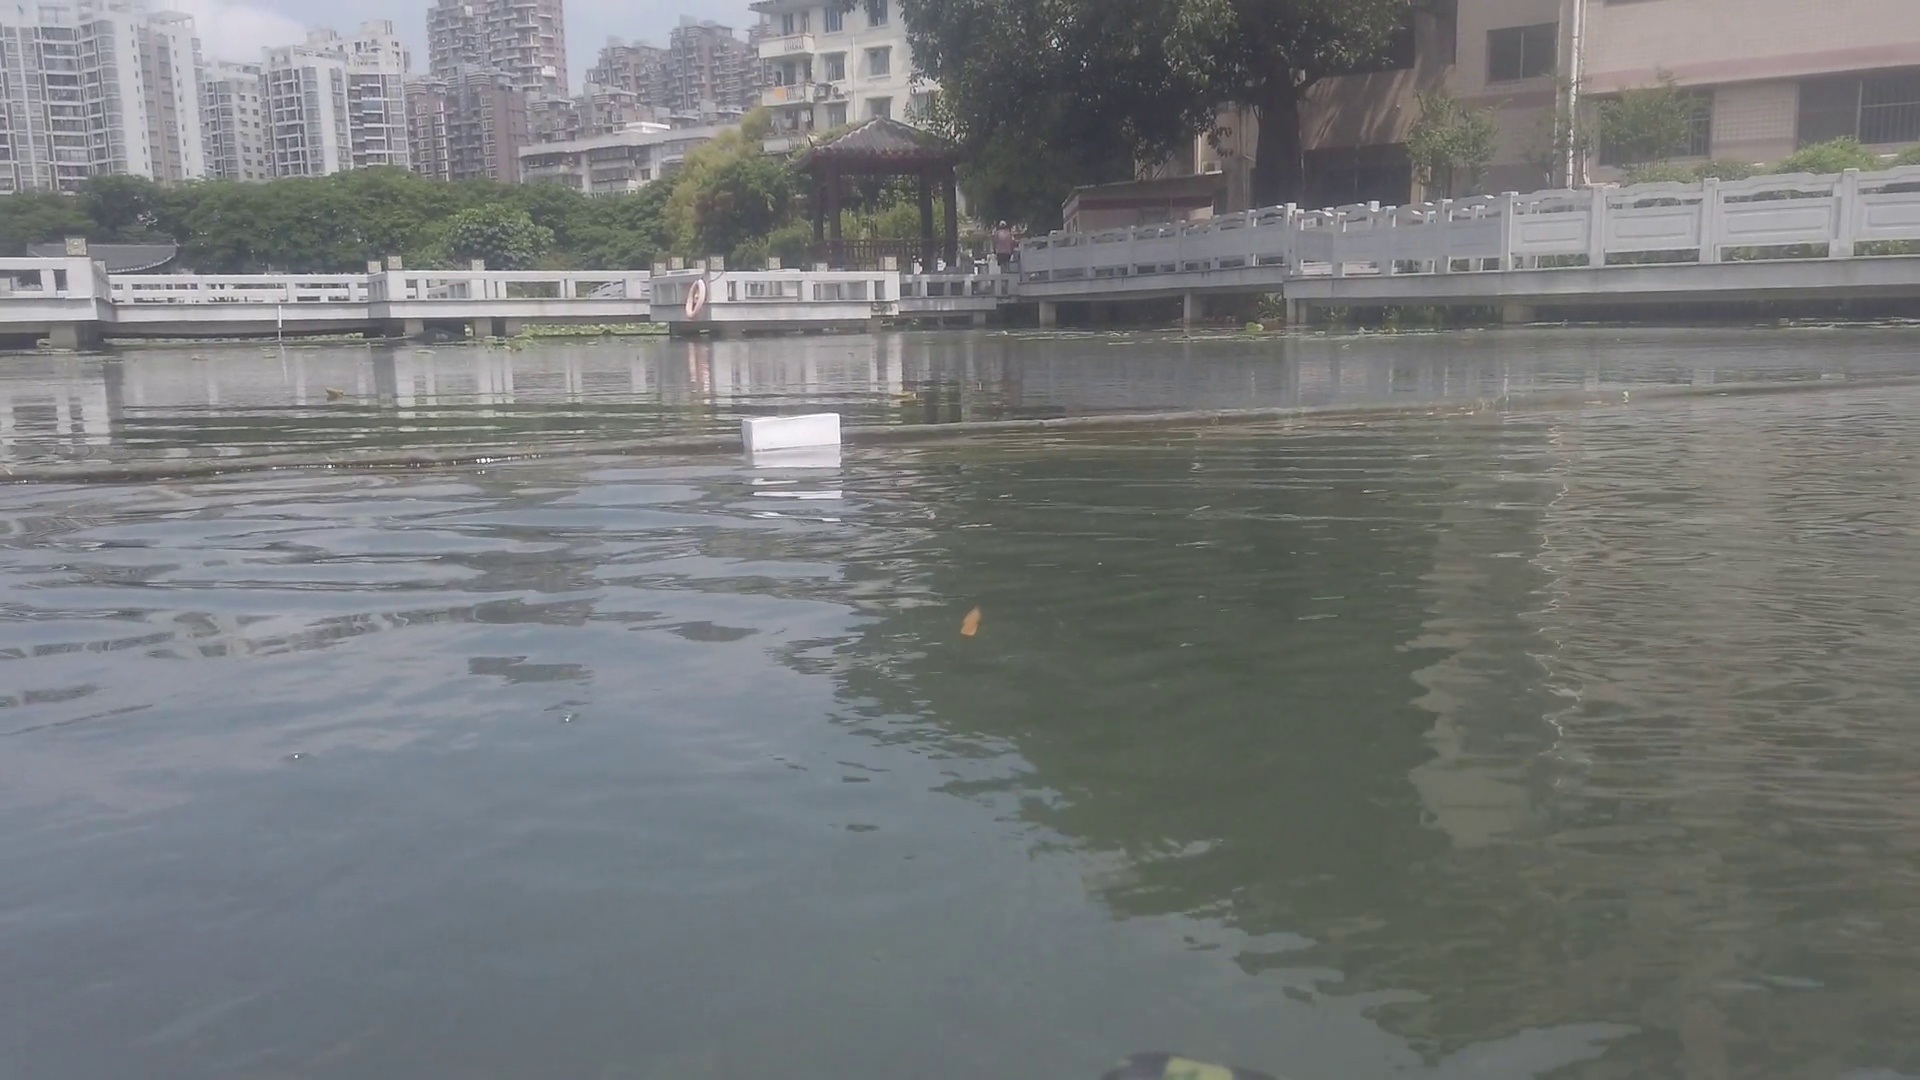carton: (737, 407, 847, 448)
